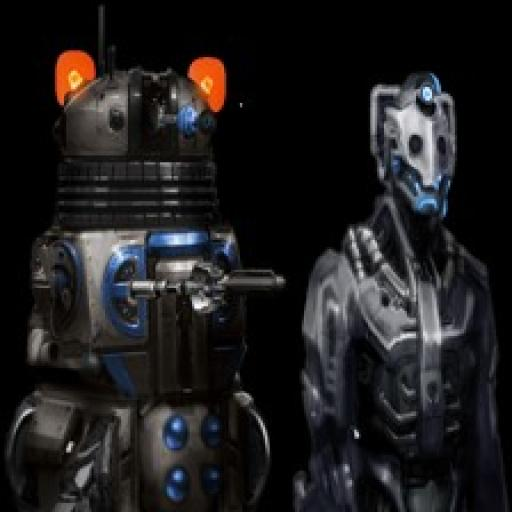dalek: (11, 45, 287, 512)
